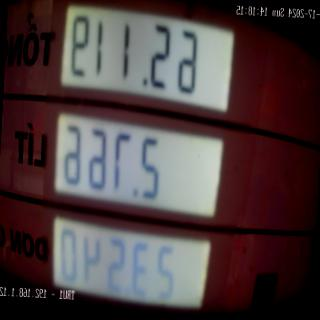screen: (41, 0, 246, 320)
